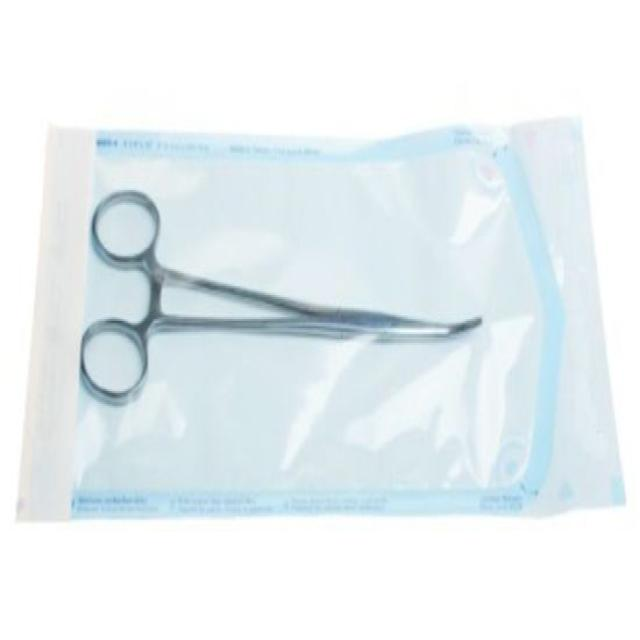B3: (8, 112, 638, 548)
